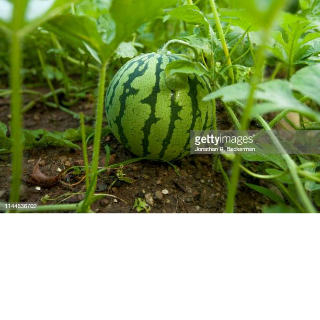dua_hau: (104, 49, 217, 167)
